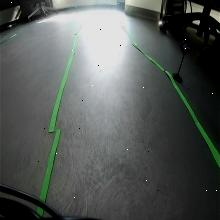left: (180, 38, 193, 56)
